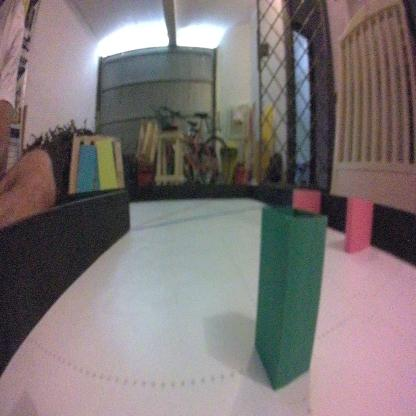green: (250, 200, 333, 392)
magenta: (344, 194, 373, 256)
